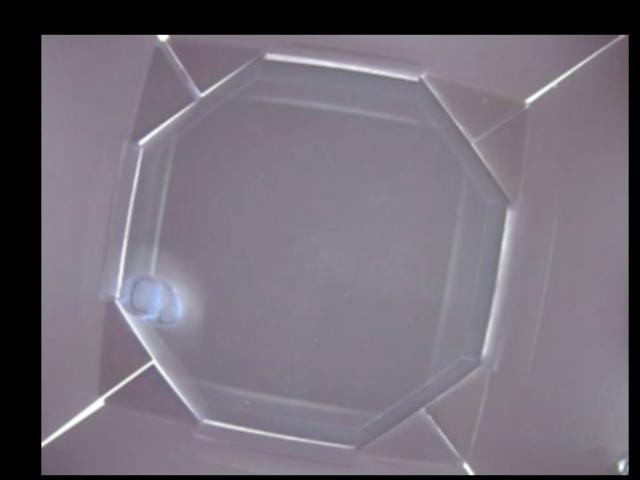Pebble: (127, 277, 179, 325)
